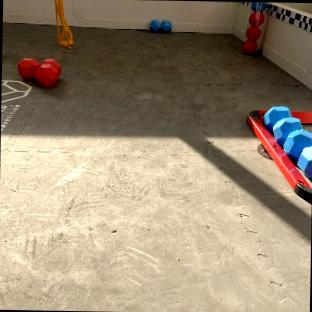V5_BLUE: (264, 105, 312, 175), (276, 126, 312, 161), (297, 145, 312, 177), (150, 21, 171, 31)
V5_RED: (17, 58, 60, 86), (242, 11, 261, 52)
